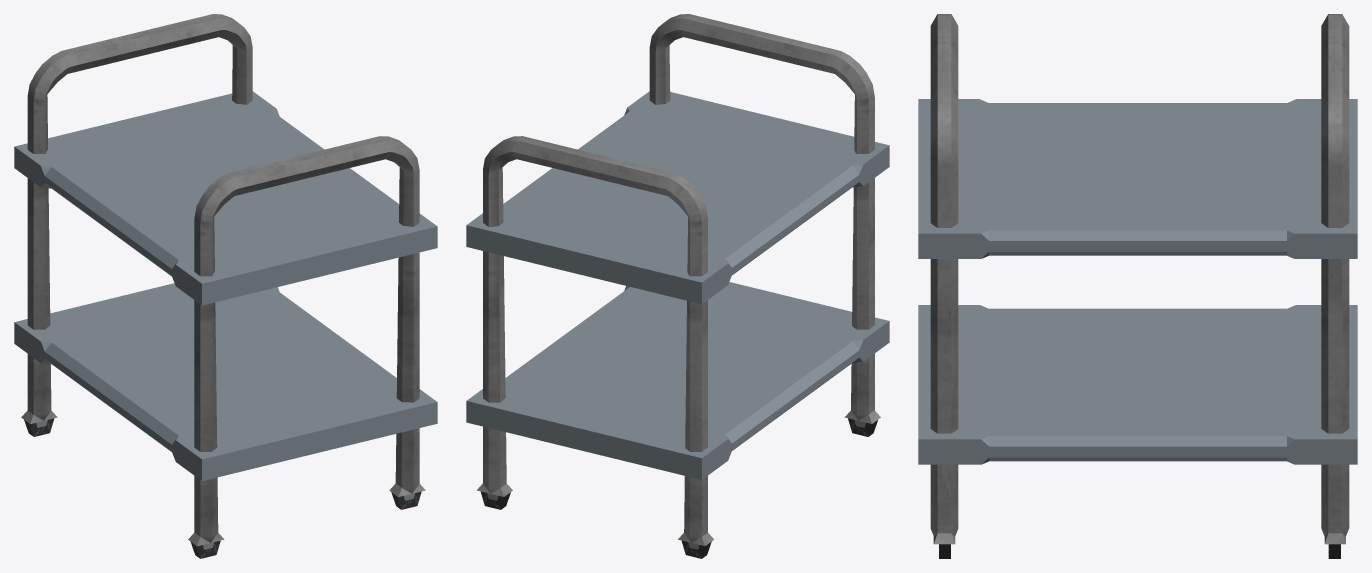
The model's file is TableMini.fbx.
The picture shows the model from 3 angles, left to right: view 1: azimuth 30°, elevation 25°; view 2: azimuth 150°, elevation 25°; view 3: azimuth 270°, elevation 25°; orthographic projection. The views are drawn at different scales.
Parts seen in each view (by area): view 1: TableMini; view 2: TableMini; view 3: TableMini.
Part boxes in pixels (left/top/right/bottom): TableMini: left=14, top=14, right=437, bottom=558; TableMini: left=466, top=14, right=889, bottom=558; TableMini: left=918, top=14, right=1357, bottom=558.
Bounding box in the file's own units: 77.21 × 117 × 107.
